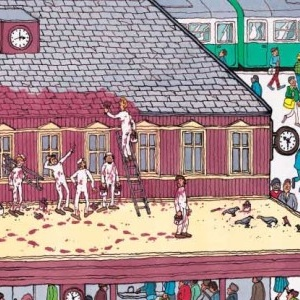Charlie: (126, 67, 168, 111), (130, 68, 170, 114)
